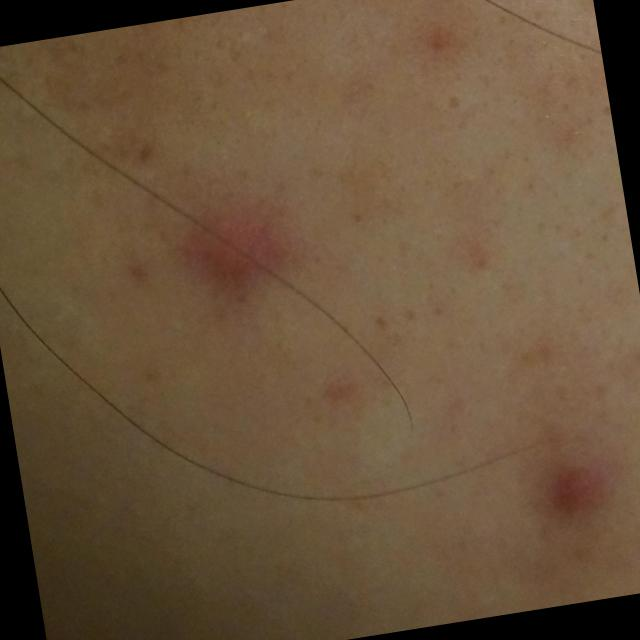nodule: (199, 218, 283, 284), (551, 464, 608, 516)
